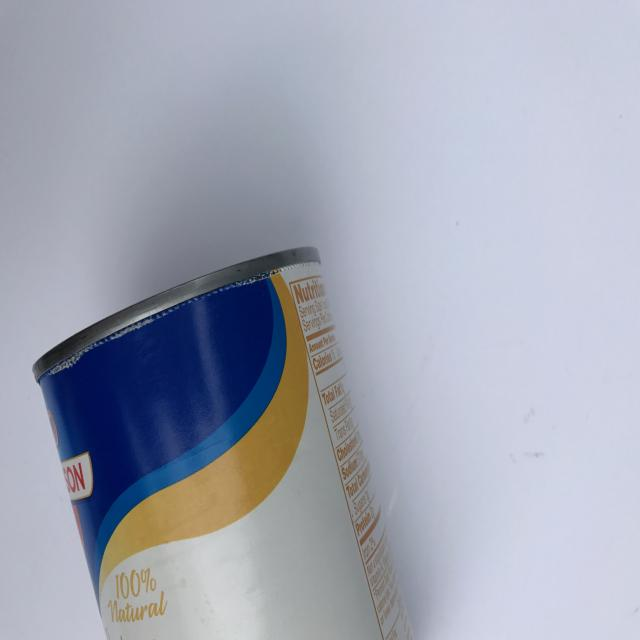metal: (32, 244, 414, 640)
